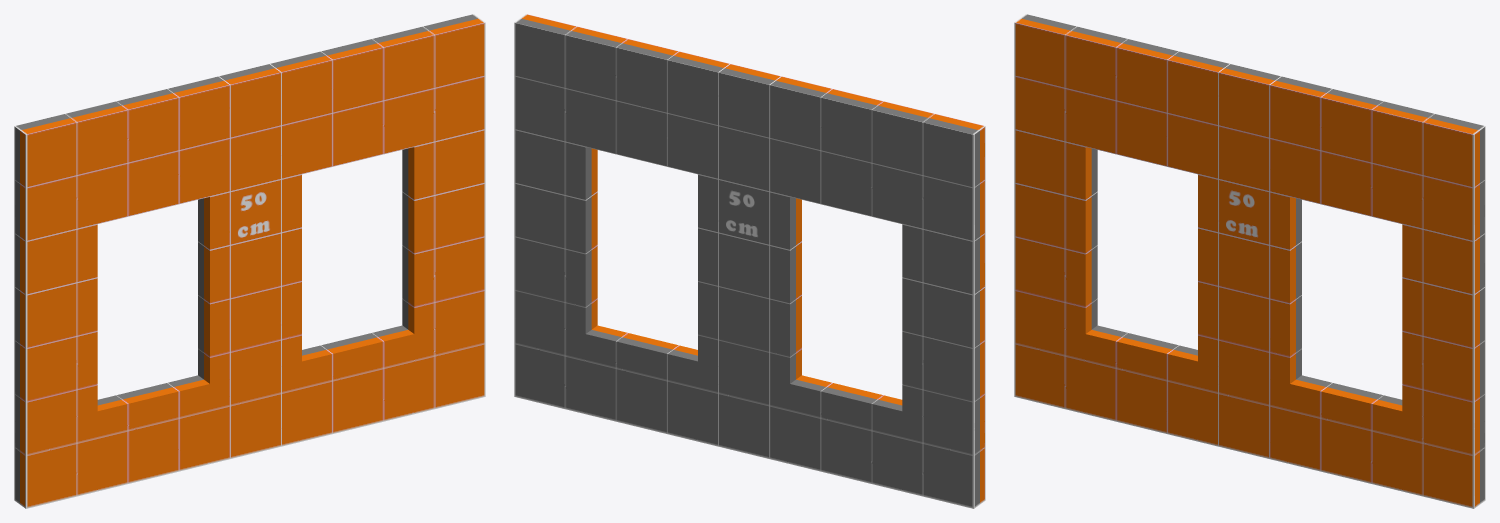
The model's file is M01WallWindowTypeA_2.FBX.
3 renders of one model, left to right at view 1: azimuth 30°, elevation 25°; view 2: azimuth 150°, elevation 25°; view 3: azimuth 330°, elevation 25°, orthographic.
Parts seen in each view (by area): view 1: M01WallWindowTypeA_2; view 2: M01WallWindowTypeA_2; view 3: M01WallWindowTypeA_2.
Part boxes in pixels (x1,y1,x2,y2): M01WallWindowTypeA_2: [14, 14, 485, 508]; M01WallWindowTypeA_2: [514, 14, 985, 508]; M01WallWindowTypeA_2: [1014, 14, 1485, 508].
Size of what is drawn, in the model's own units: 4.5 by 3.5 by 0.2.
